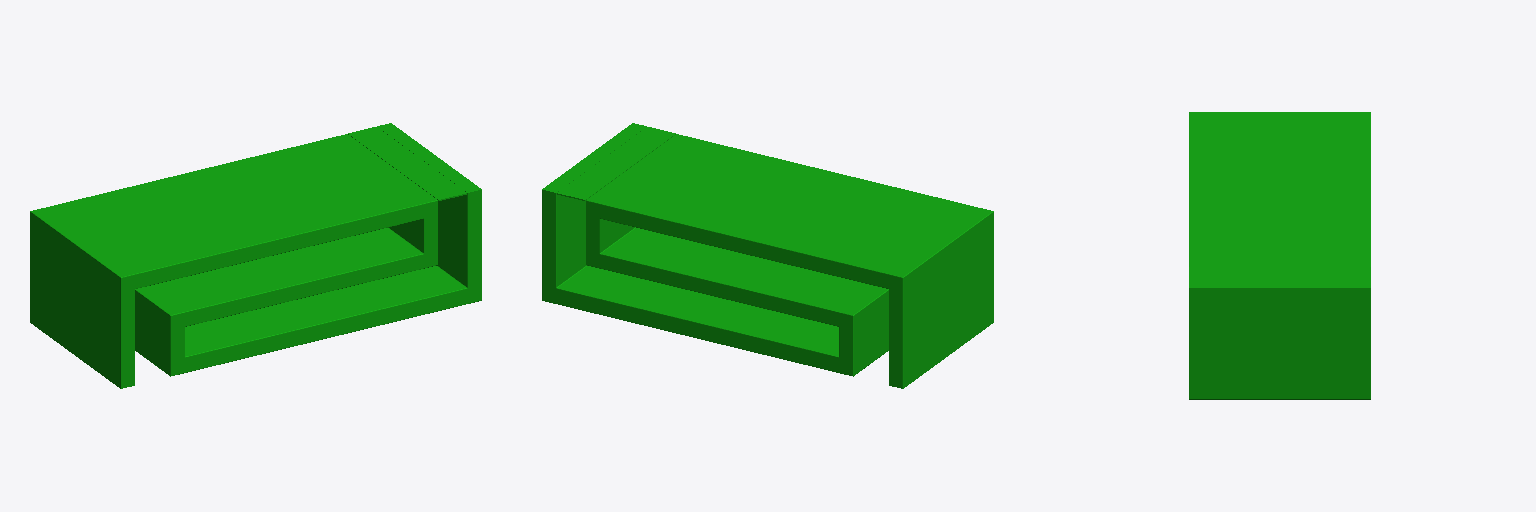
The model's file is greca_obj.obj.
3 renders of one model, left to right at view 1: azimuth 30°, elevation 25°; view 2: azimuth 150°, elevation 25°; view 3: azimuth 270°, elevation 25°, orthographic.
Visible parts, largest first — view 1: versace_table; view 2: versace_table; view 3: versace_table.
Part boxes in pixels (x1,y1,x2,y2): versace_table: (30,123,481,388); versace_table: (542,123,993,388); versace_table: (1189,112,1370,399).
Bounding box in the file's own units: 95.08 × 28.03 × 41.47.